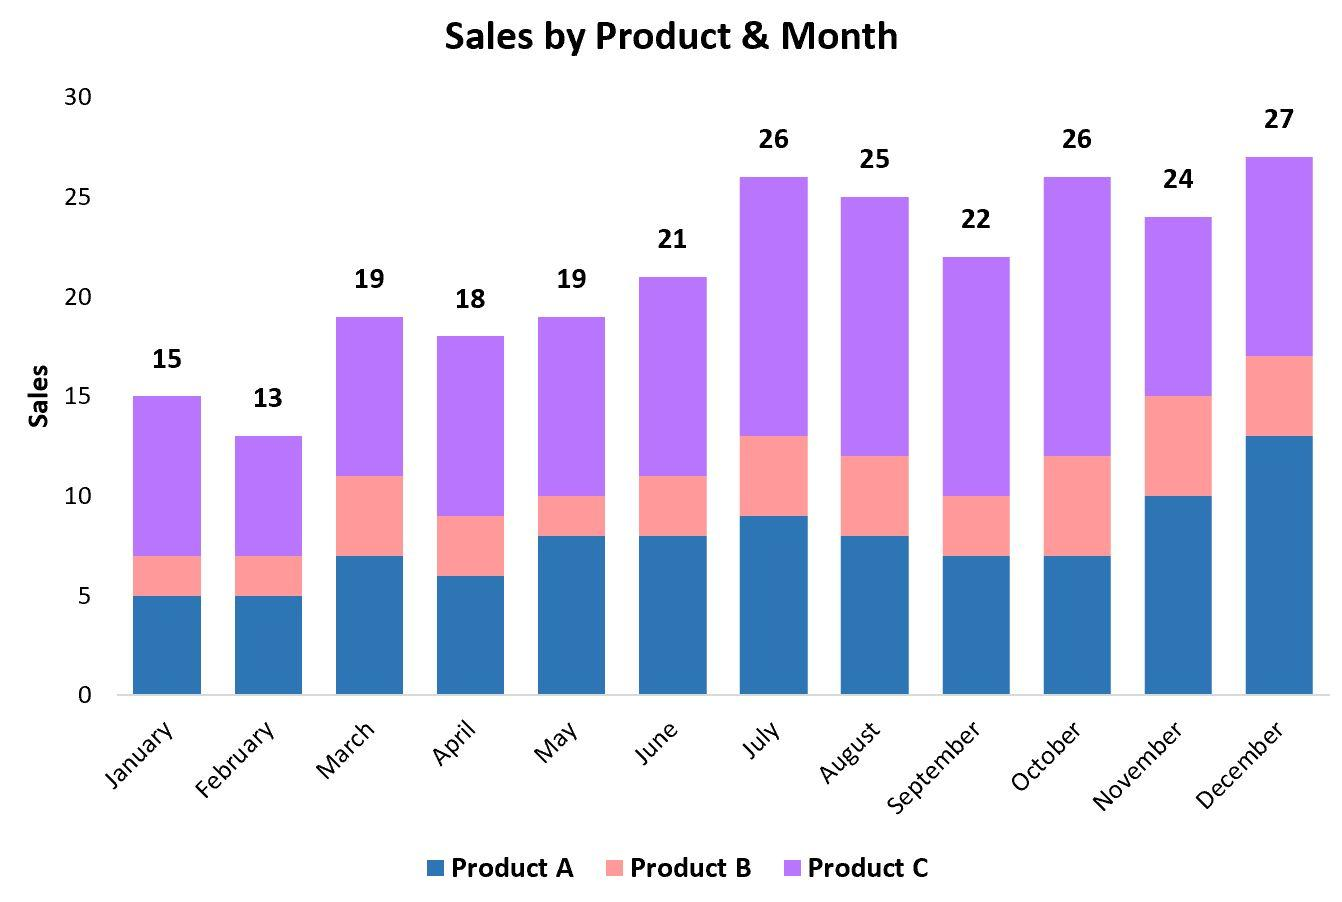axis: (53, 85, 98, 705)
rectangle: (739, 175, 807, 695), (1247, 156, 1311, 694), (1045, 178, 1109, 695), (842, 195, 908, 694), (1146, 217, 1210, 695), (943, 258, 1009, 695), (639, 277, 706, 694), (337, 317, 404, 696), (539, 316, 605, 695), (439, 336, 503, 695), (135, 396, 200, 695), (236, 435, 300, 694)
